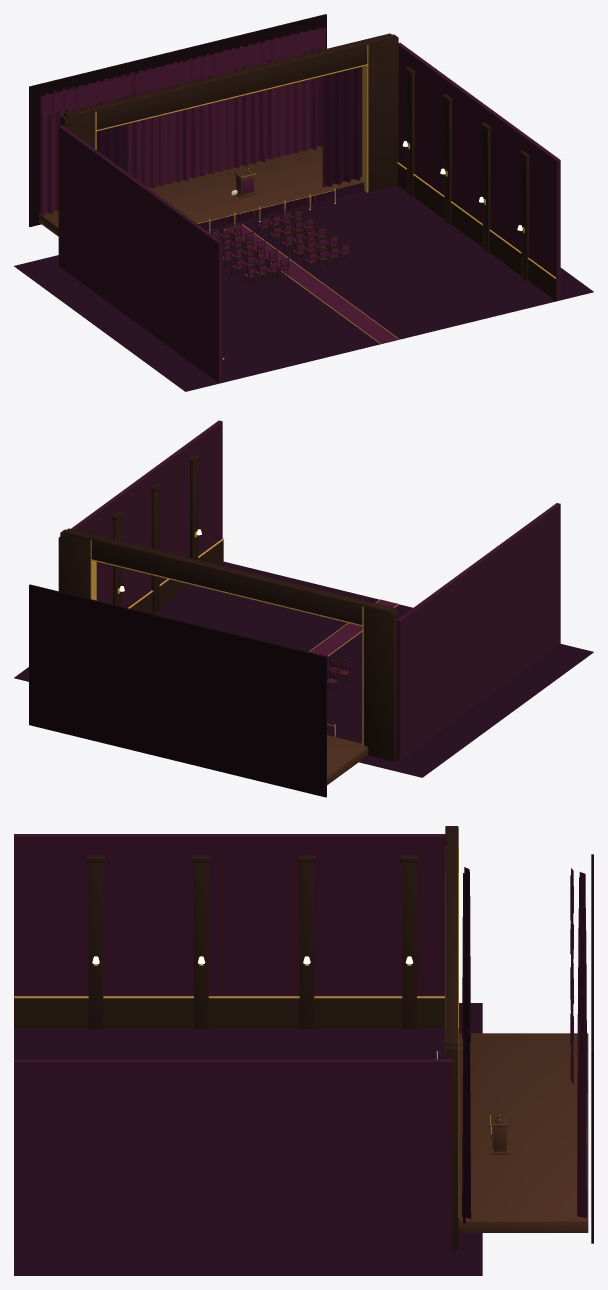
Rendered from saleroom-v2.glb.
The picture shows the model from 3 angles, top to bottom: view 1: azimuth 30°, elevation 25°; view 2: azimuth 150°, elevation 25°; view 3: azimuth 270°, elevation 25°; orthographic projection. The views are drawn at different scales.
Visible parts, largest first — view 1: House, Floor, Curtain_R, Stage, Curtain_L, Valance, BackWall, Curtain_SideR, StageSkirt, Curtain_SideL, Lectern; view 2: House, BackWall, Floor, Stage; view 3: House, Floor, Stage, Curtain_R, Curtain_SideR, Curtain_SideL, BackWall, Curtain_L, Valance, Lectern.
Part boxes in pixels (x1,y1,x2,y2): House: (58,33,560,383); Floor: (14,185,593,391); Curtain_R: (180,26,323,180); Stage: (38,146,363,236); Curtain_L: (40,60,182,215); Valance: (44,27,325,118); BackWall: (29,14,326,226); Curtain_SideR: (322,66,362,187); StageSkirt: (197,182,364,229); Curtain_SideL: (96,124,125,170); Lectern: (234,169,256,198); House: (58,420,560,761); BackWall: (29,584,326,797); Floor: (14,561,593,777); Stage: (327,735,368,785); House: (14,826,458,1252); Floor: (14,1003,482,1275); Stage: (458,1033,588,1232); Curtain_R: (577,963,586,1218); Curtain_SideR: (462,1027,471,1223); Curtain_SideL: (462,867,470,1053); BackWall: (591,854,593,1243); Curtain_L: (578,872,587,1127); Valance: (570,868,573,1084); Lectern: (490,1115,508,1154).
Size of the model in its own units: 22 by 7.91 by 19.8.
